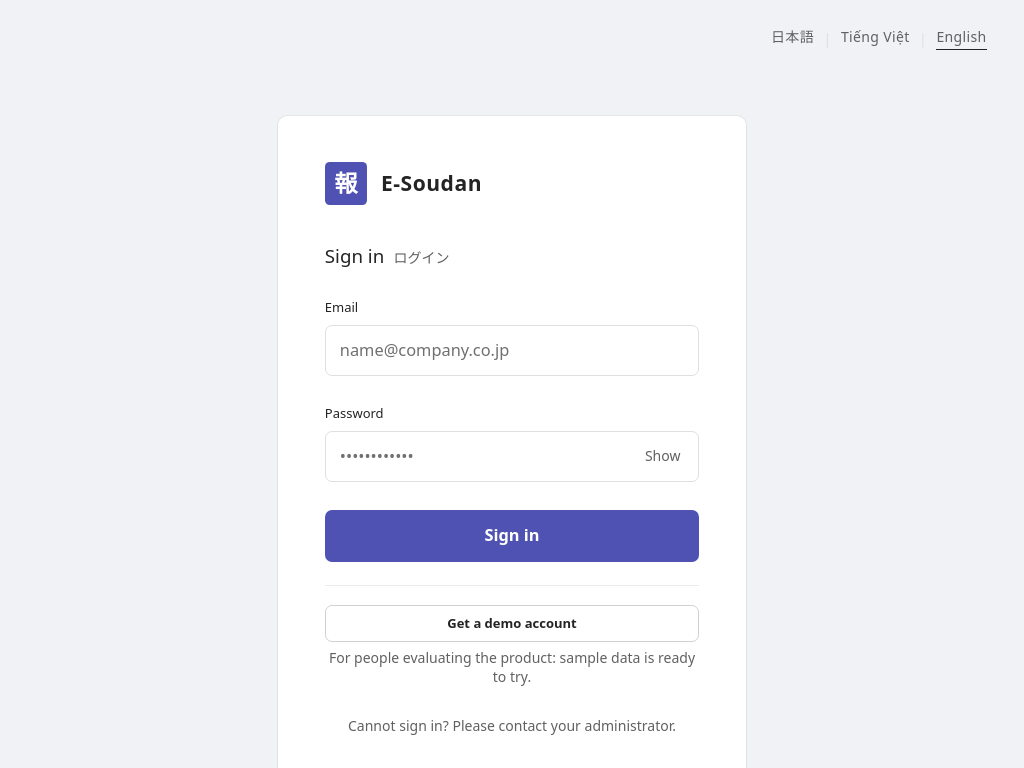
Scenario: LoginView › demo account › should_showCredentialsInPopup_andFillTheForm
Step 1. Click the button with test id "demo-open" → [512, 624], box [325,605,699,642]
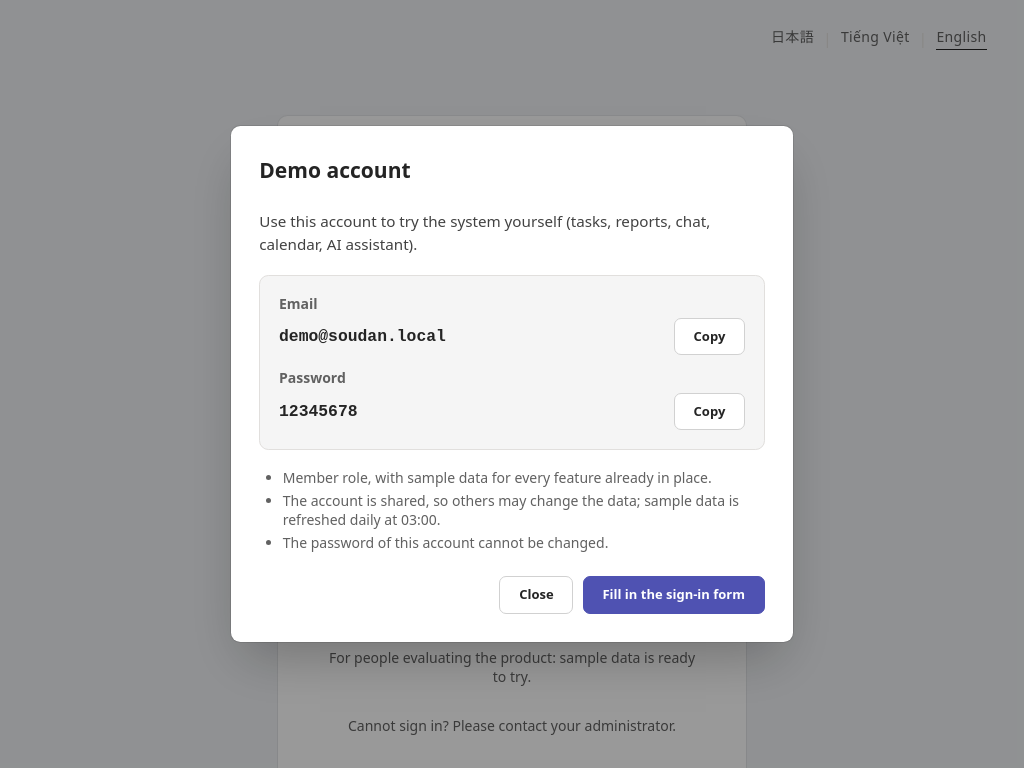
Now the text "demo@soudan.local" is shown, box [279,325,446,348]
Now the text "12345678" is shown, box [279,400,358,423]
Step 2. Click the button with test id "demo-fill" → [674, 595], box [583,576,765,614]
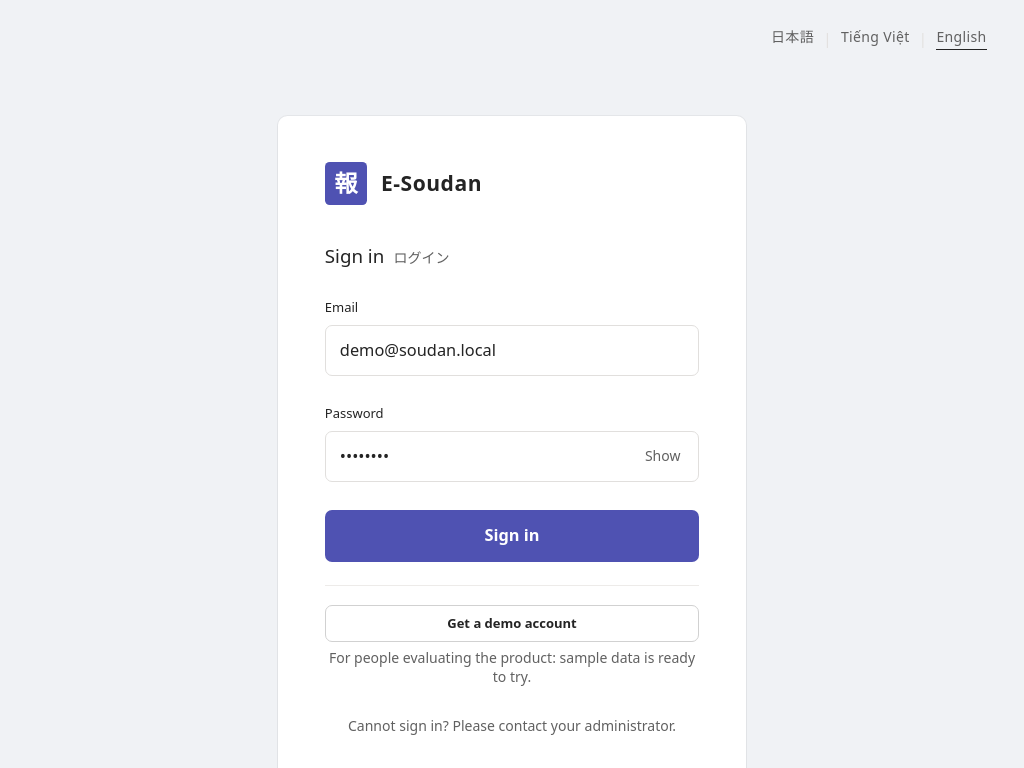
Now the field with id "email" holds "demo@soudan.local", box [325,325,699,376]
Now the password field labelled "Password" holds "12345678", box [325,431,699,482]
